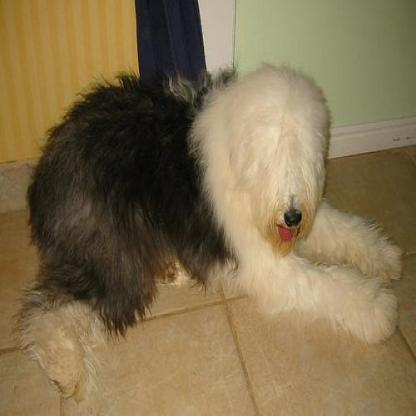Old_English_sheepdog: (21, 62, 404, 399)
